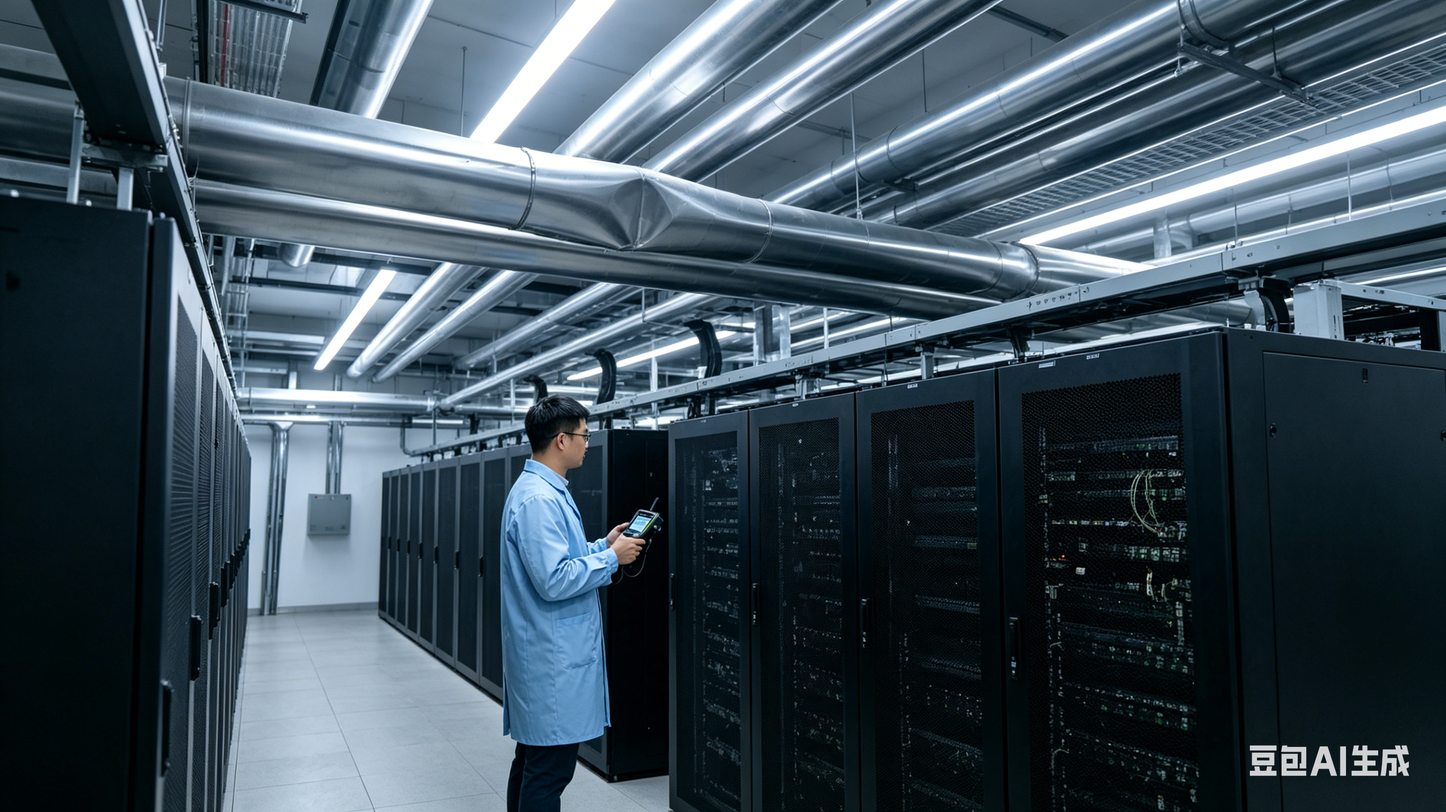Leakage: (610, 174, 683, 260)
